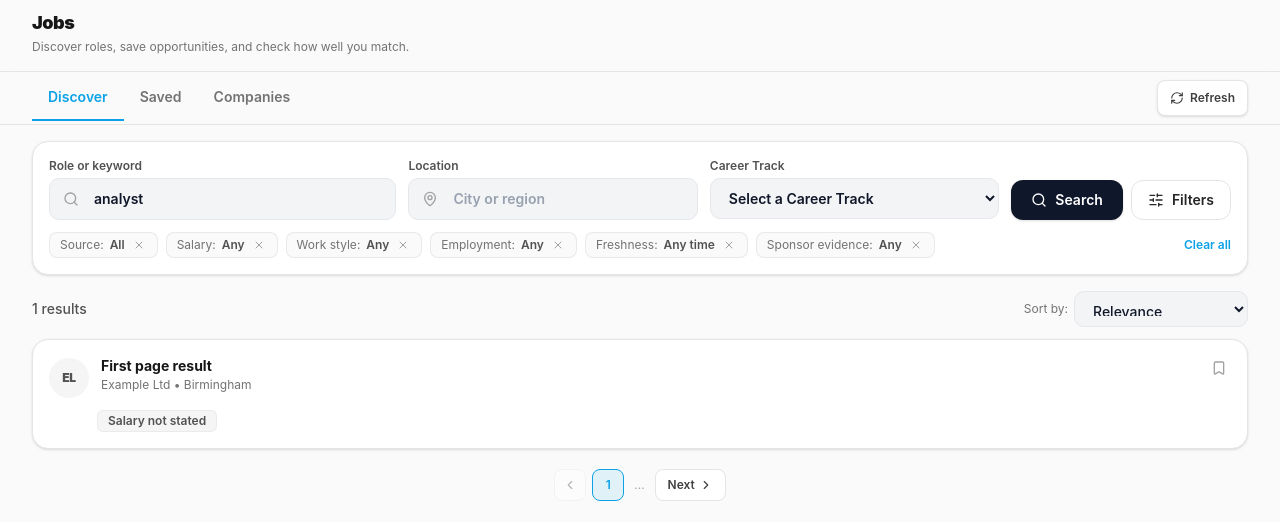
Scenario: authenticated Job Board API wiring › pages forward on the session cursor and trusts the server's hasMore
Expected: the text "First page result" is shown, [101,357,212,374]
What coordinates should you click on to do the following:
click the button "Next"
I would click on:
 (690, 485)
Its box is [655,469,726,501].
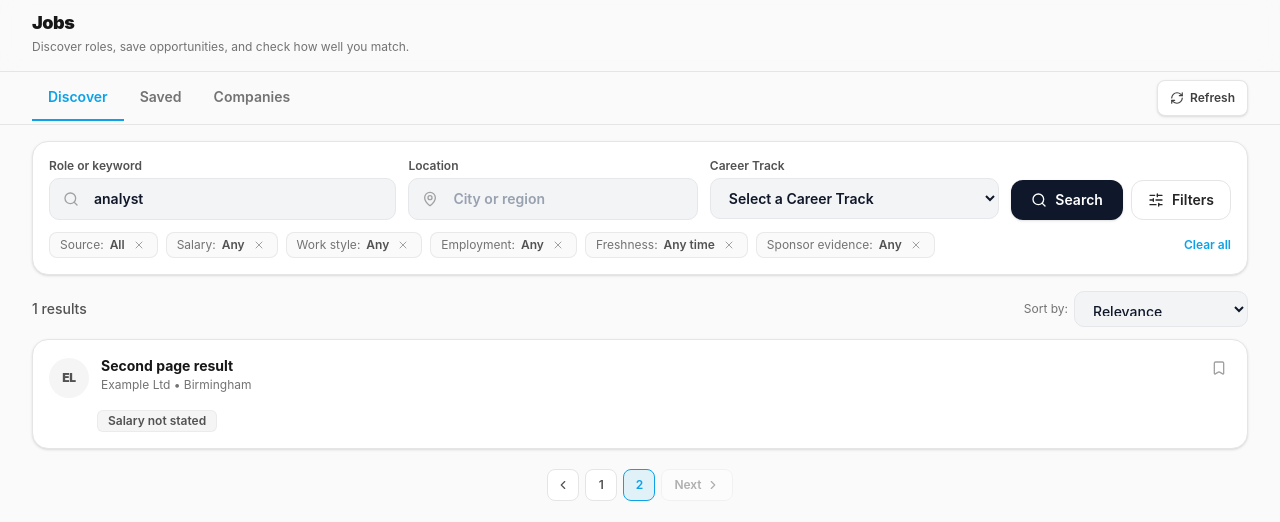
Expected: the text "Second page result" is shown, [101,357,233,374]
Expected: the button "First page result" is gone
Expected: the button "Next" is disabled, [661,469,733,501]
# Page 1 stays reachable from the cache the client keeps.
What coordinates should you click on to do the following:
click the button named "Page 1"
I would click on:
 (601, 485)
Its box is [585,469,617,501].
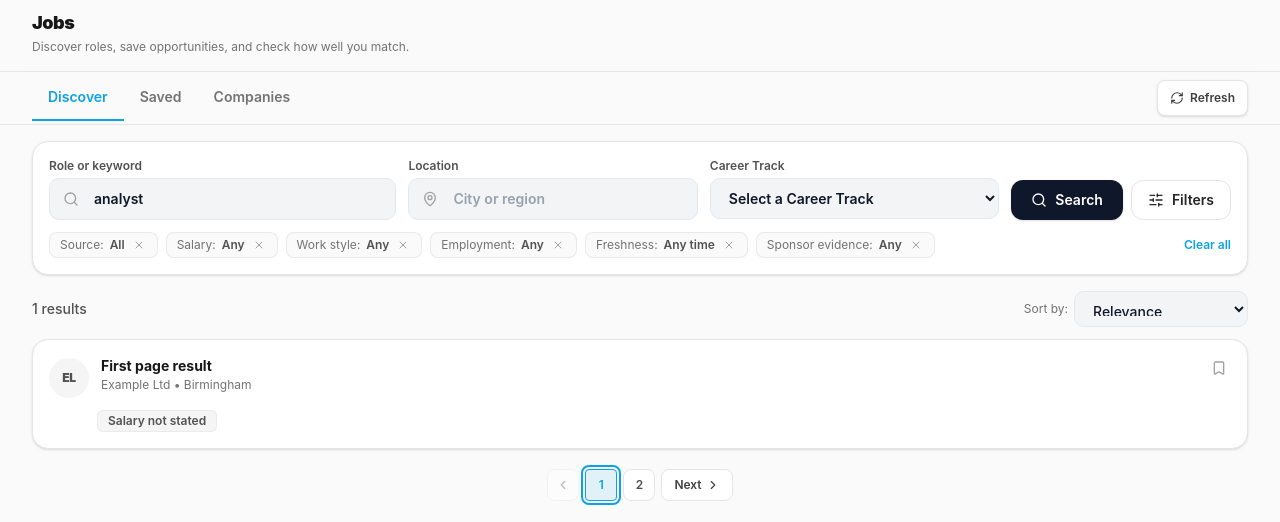
Expected: the text "First page result" is shown, [101,357,212,374]
